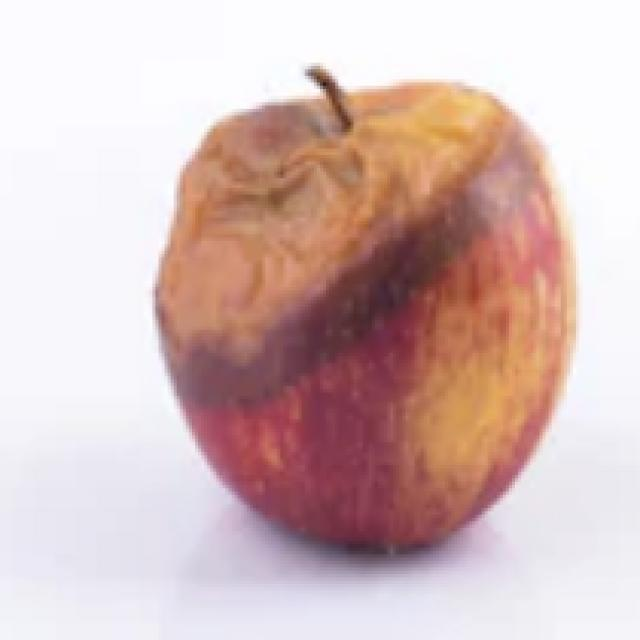Rotten: (148, 77, 577, 553)
